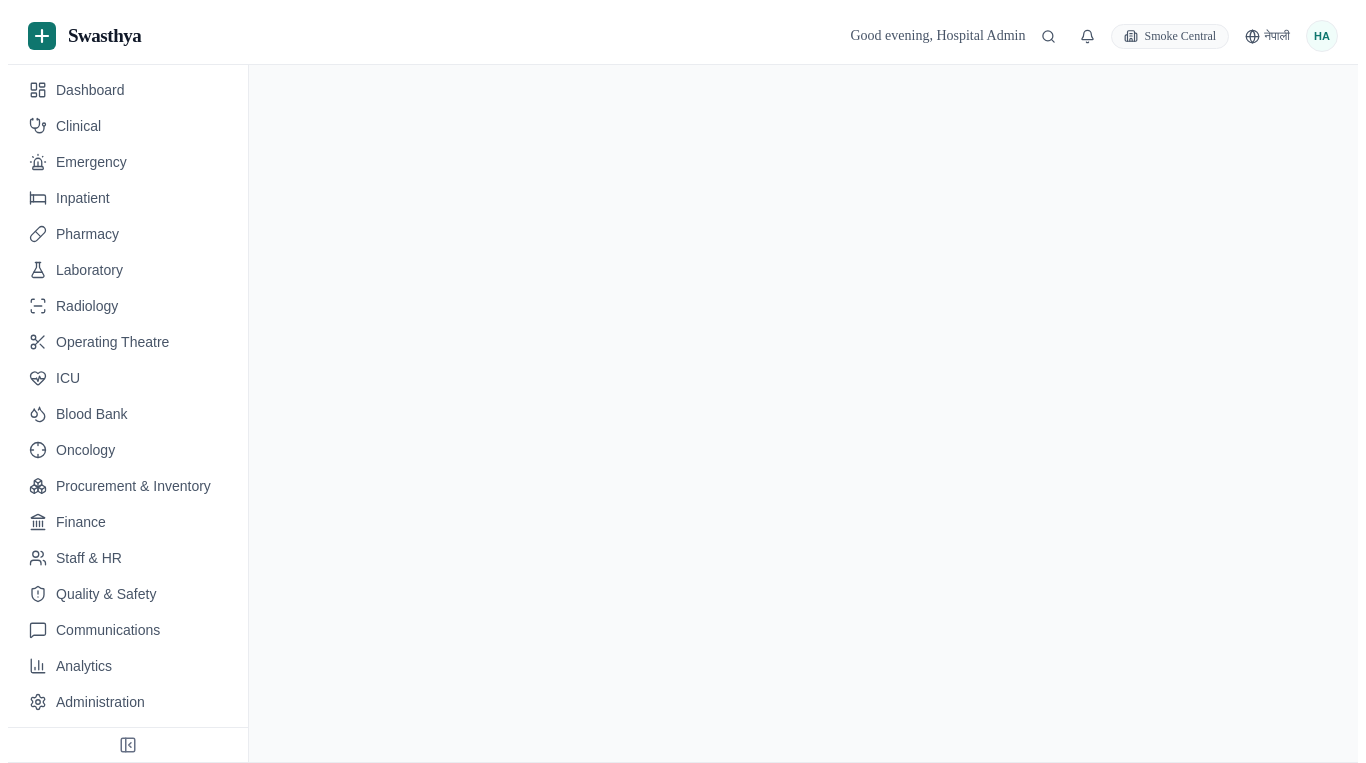
Scenario: User account menu › opens the dropdown on click with user email
Click the button with test id "user-menu-trigger" at (1322, 36), box top-left (1306, 20), bottom-right (1338, 52)
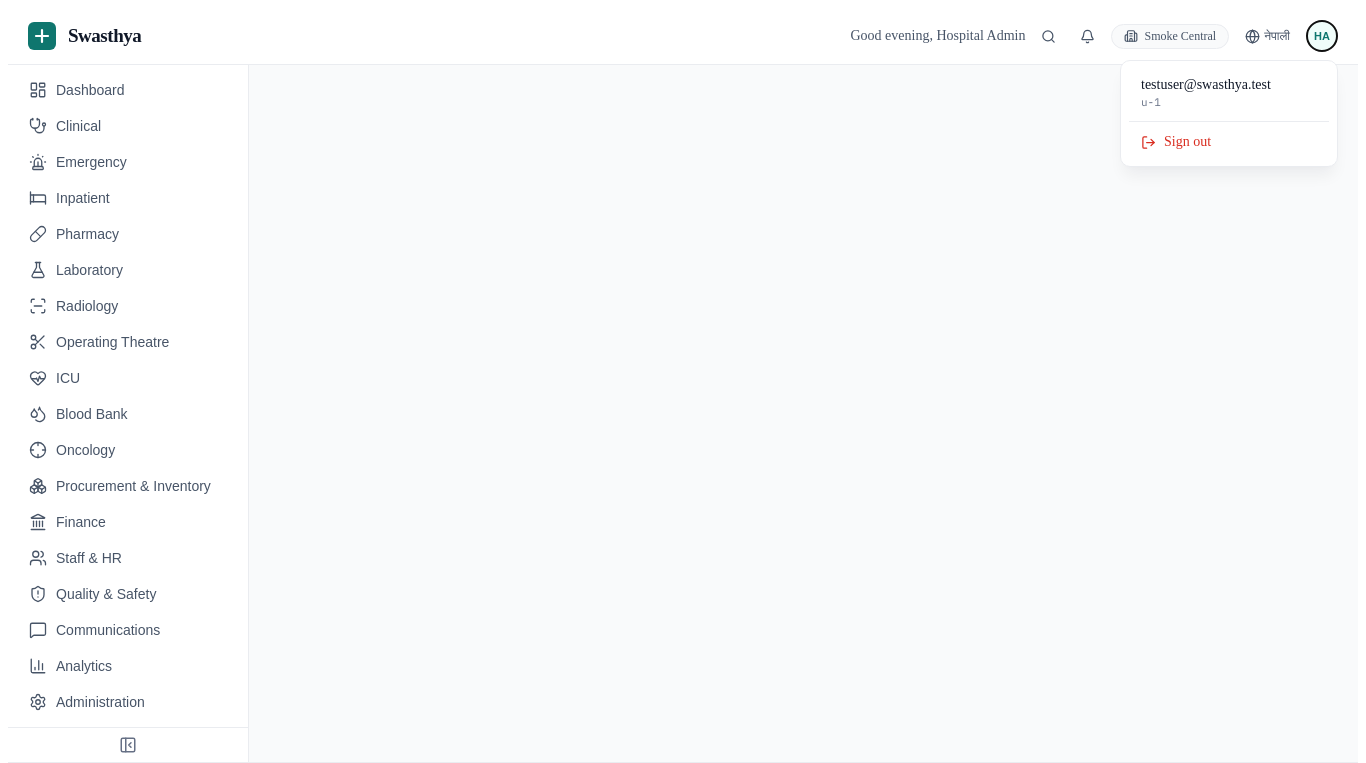
Check: the menu with test id "user-menu-dropdown" is shown, box top-left (1120, 60), bottom-right (1338, 167)
Check: the text "testuser@swasthya.test" is shown, box top-left (1141, 77), bottom-right (1271, 92)
